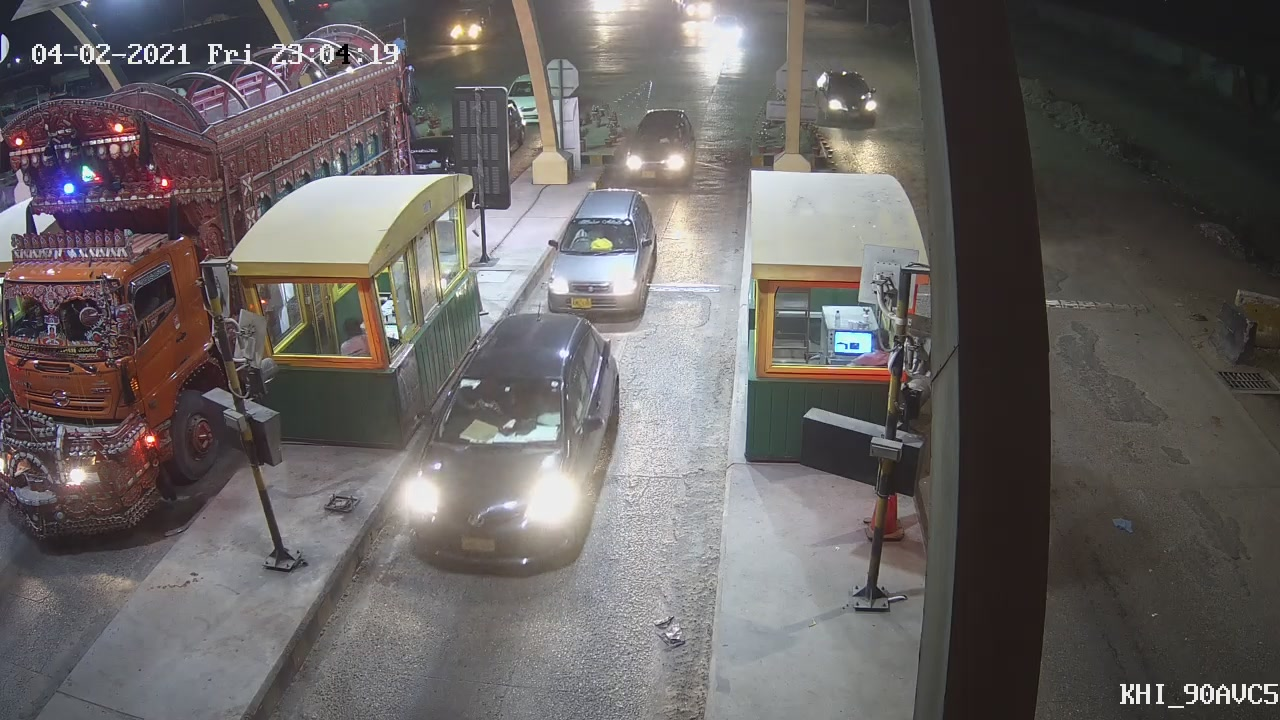F1: (400, 310, 621, 573), (542, 186, 660, 314), (623, 105, 702, 185)
